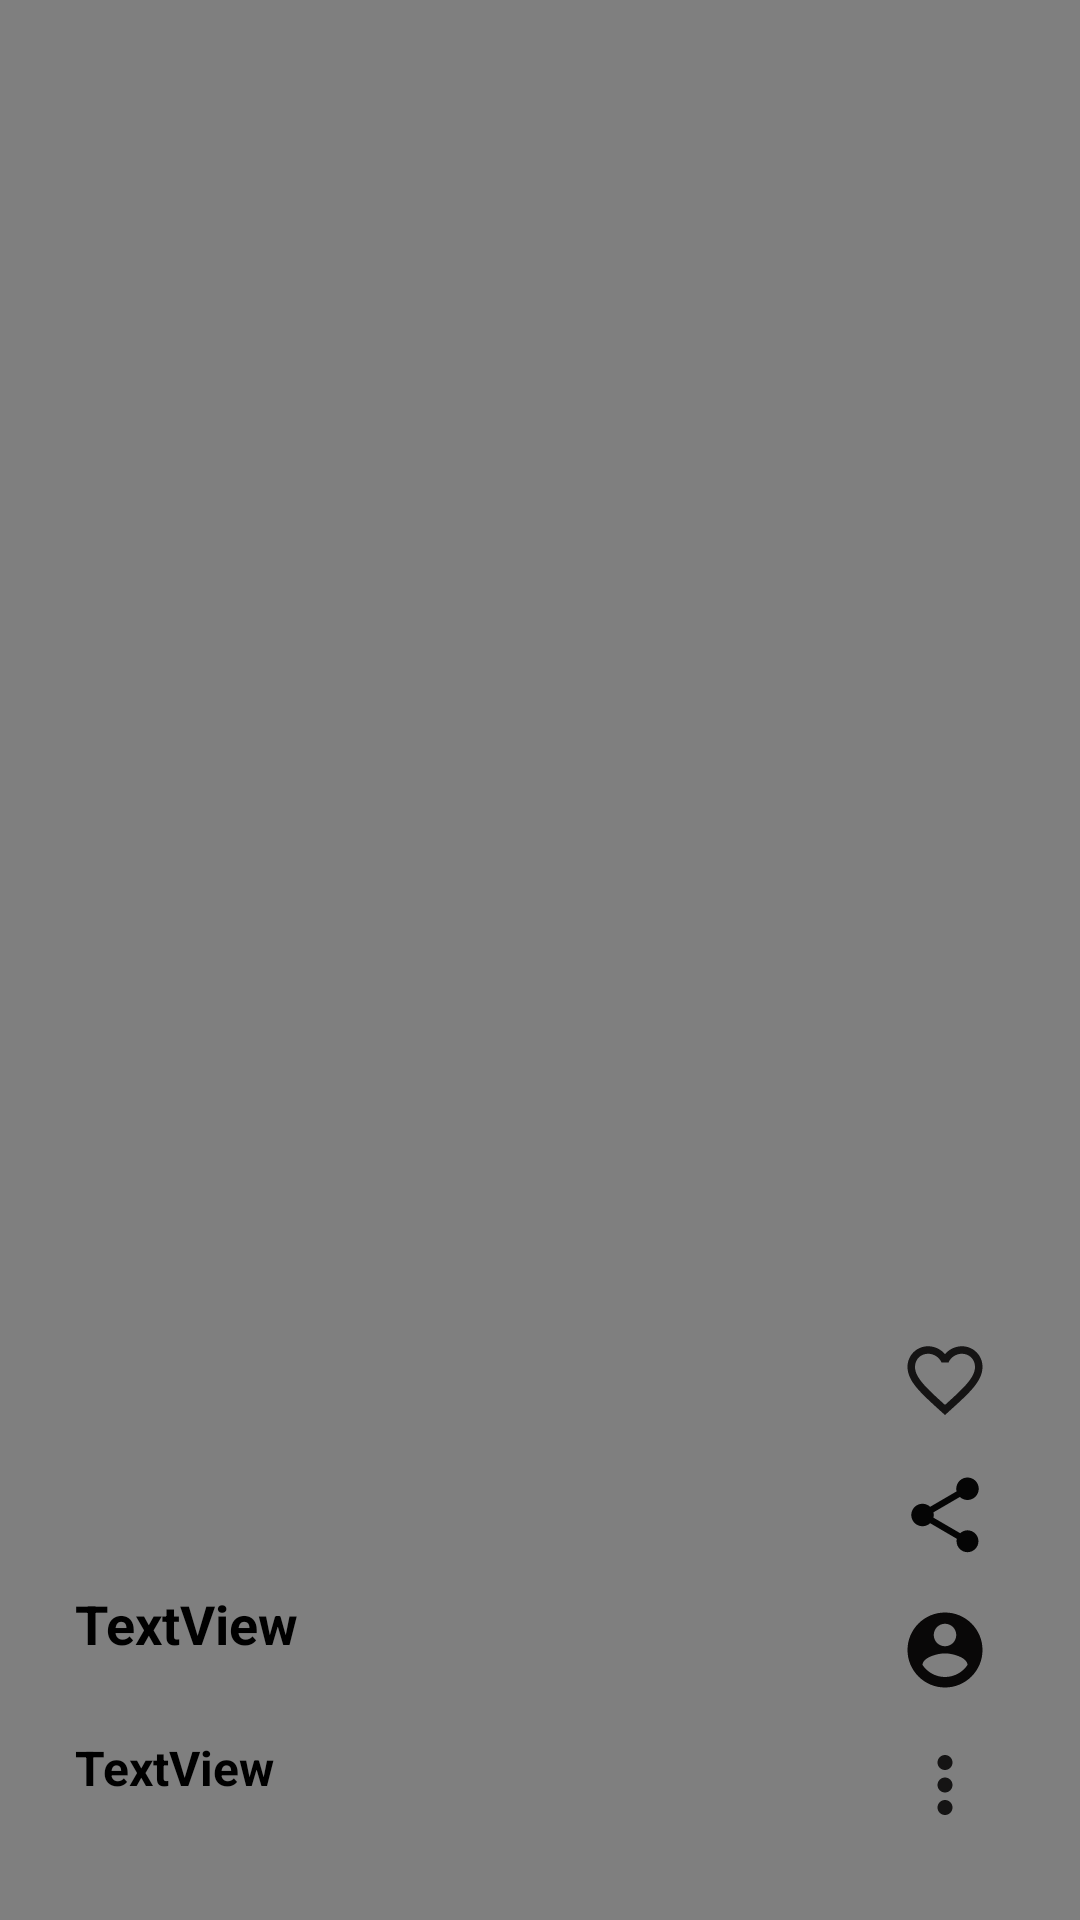

Named icons in this screenshot (1080 x 1920) and their bounding boxes, [x1,y1,x2,y2]:
account circle: [907,1612,983,1688]
commentunlike: [907,1346,983,1415]
more: [937,1755,953,1815]
share: [911,1477,979,1553]
